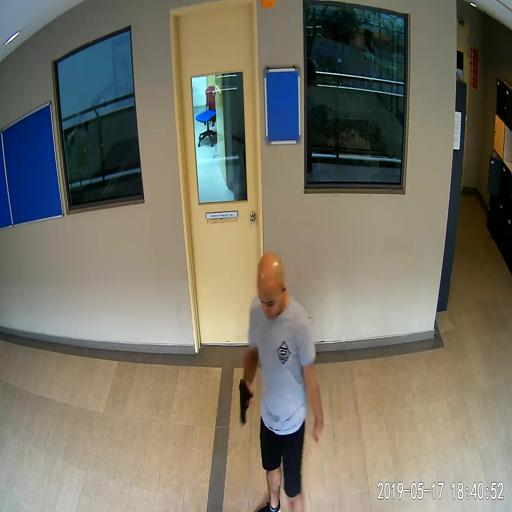pistol: (238, 377, 253, 424)
